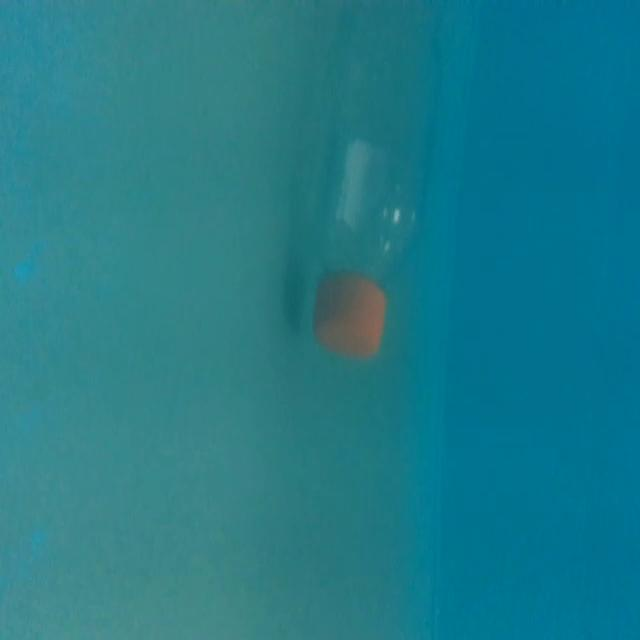plastic bottle: (303, 8, 473, 362)
